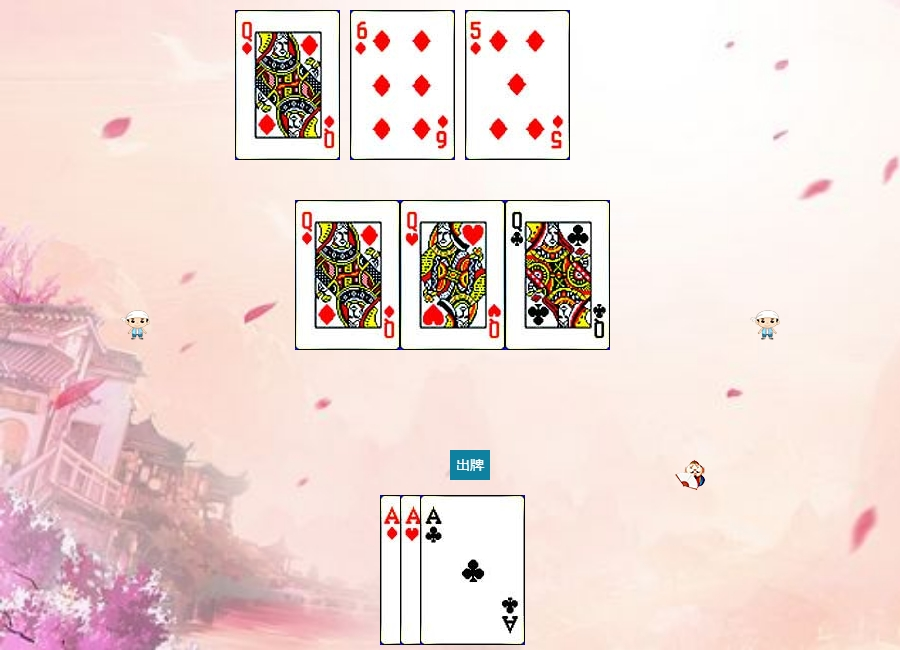12~1: (235, 10, 340, 160), (295, 200, 400, 350)
12~2: (505, 200, 610, 350)
12~3: (400, 200, 505, 350)
14~1: (380, 495, 485, 645)
14~2: (420, 495, 525, 645)
14~3: (400, 495, 505, 645)
5~1: (465, 10, 570, 160)
6~1: (350, 10, 455, 160)
